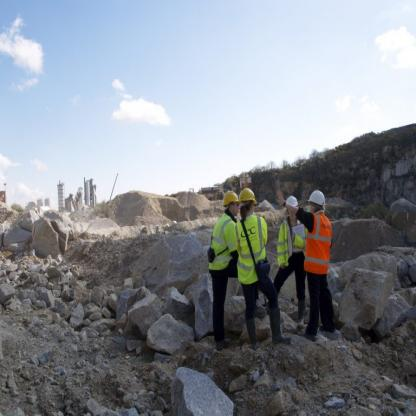person: (236, 171, 282, 348), (208, 175, 249, 359), (272, 188, 308, 338), (308, 191, 338, 344)
